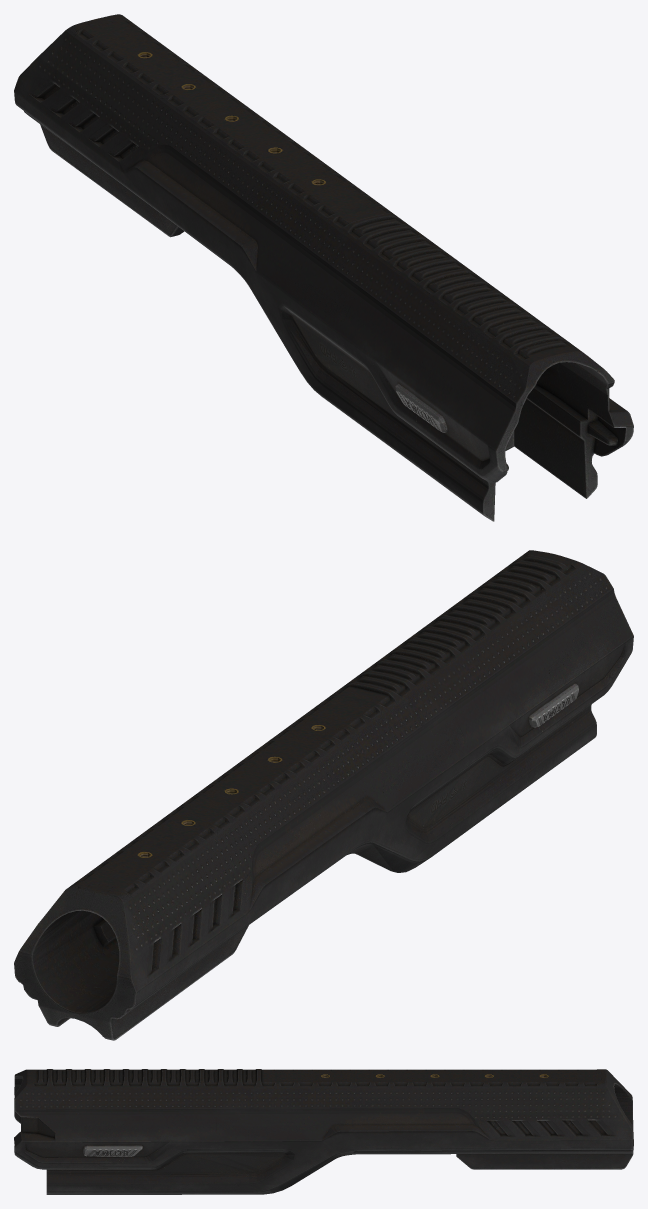
3 views of the same model, one above another, from view 1: azimuth 30°, elevation 25°; view 2: azimuth 150°, elevation 25°; view 3: azimuth 270°, elevation 25° (orthographic). The views are drawn at different scales.
Parts seen in each view (by area): view 1: TW_606ee5c81246154cad35d65e_PZ_Import; view 2: TW_606ee5c81246154cad35d65e_PZ_Import; view 3: TW_606ee5c81246154cad35d65e_PZ_Import.
Boxes of the visible parts, x1,y1,x2,y2 form: TW_606ee5c81246154cad35d65e_PZ_Import: (14, 14, 633, 521); TW_606ee5c81246154cad35d65e_PZ_Import: (14, 550, 633, 1040); TW_606ee5c81246154cad35d65e_PZ_Import: (14, 1069, 633, 1194).
Size of the model in its own units: 0.0344 by 0.2068 by 0.0392.
1 material, 1 textured.
